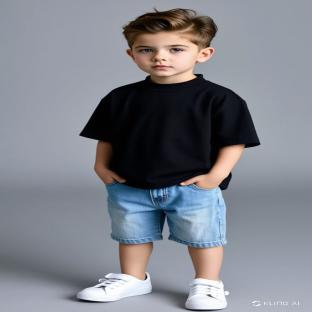Human: (77, 9, 259, 309)
